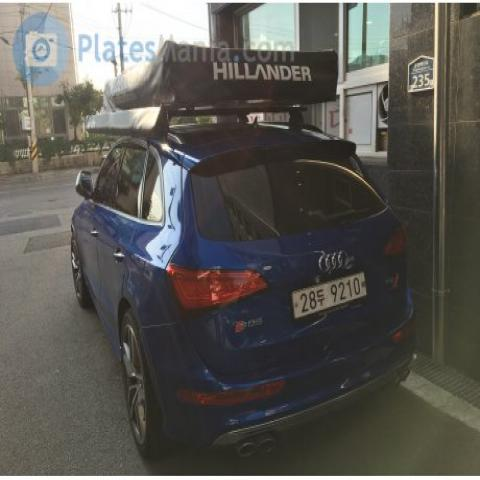LP: (280, 266, 378, 324)
